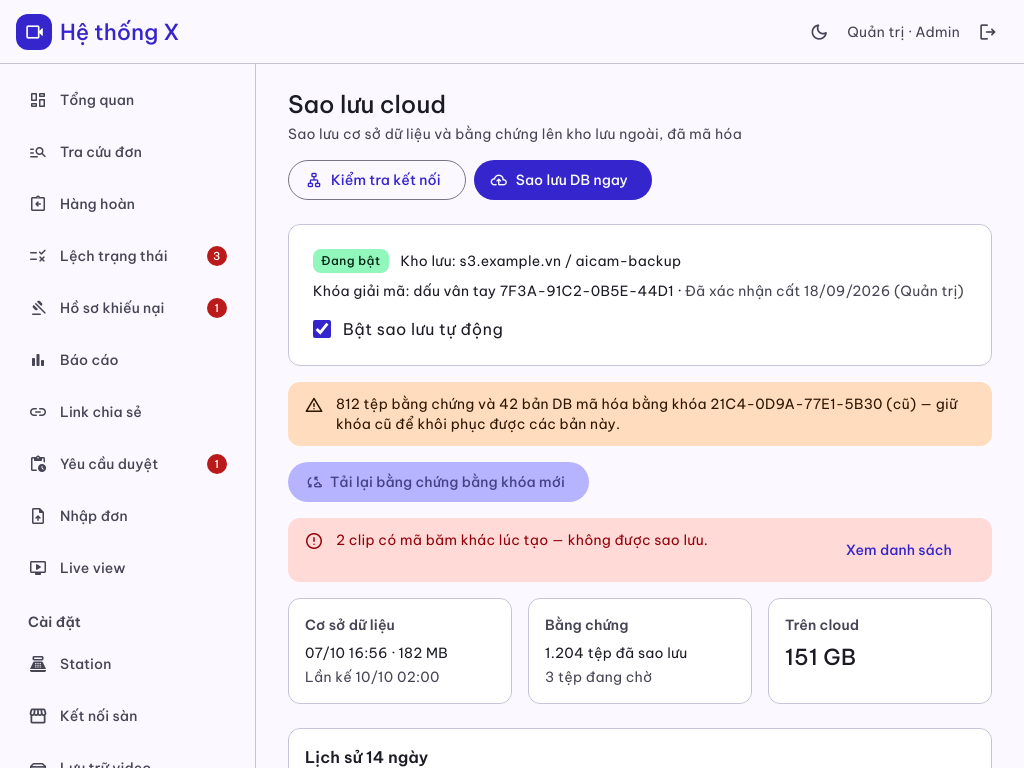
Test: EX-K7: khóa cũ → Alert + Dialog (790 tệp, 136 GB) → Tải lại → Toast; Alert còn, hết nút; lịch sử '(khóa cũ)'
Check: the button "Kiểm tra kết nối" is shown, box [288,160,466,200]
Click the button "Tải lại bằng chứng bằng khóa mới": point(438, 482) [288,462,589,502]
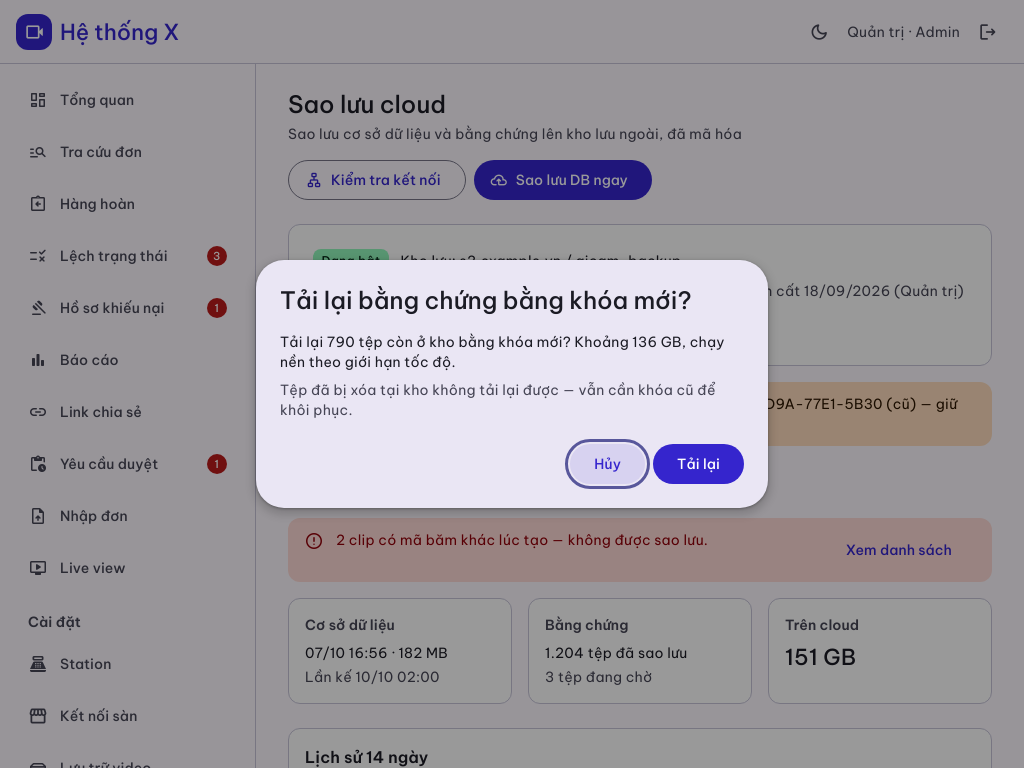
Check: the dialog "Tải lại bằng chứng bằng khóa mới?" shows "Tải lại 790 tệp còn ở kho bằng khóa mới? Khoảng 136 GB, chạy nền theo giới hạn tốc độ.", box [280,333,725,371]
Check: the dialog "Tải lại bằng chứng bằng khóa mới?" shows "Tệp đã bị xóa tại kho không tải lại được — vẫn cần khóa cũ để khôi phục.", box [280,381,716,419]
Click the button "Tải lại": point(698, 464) [653,444,744,484]
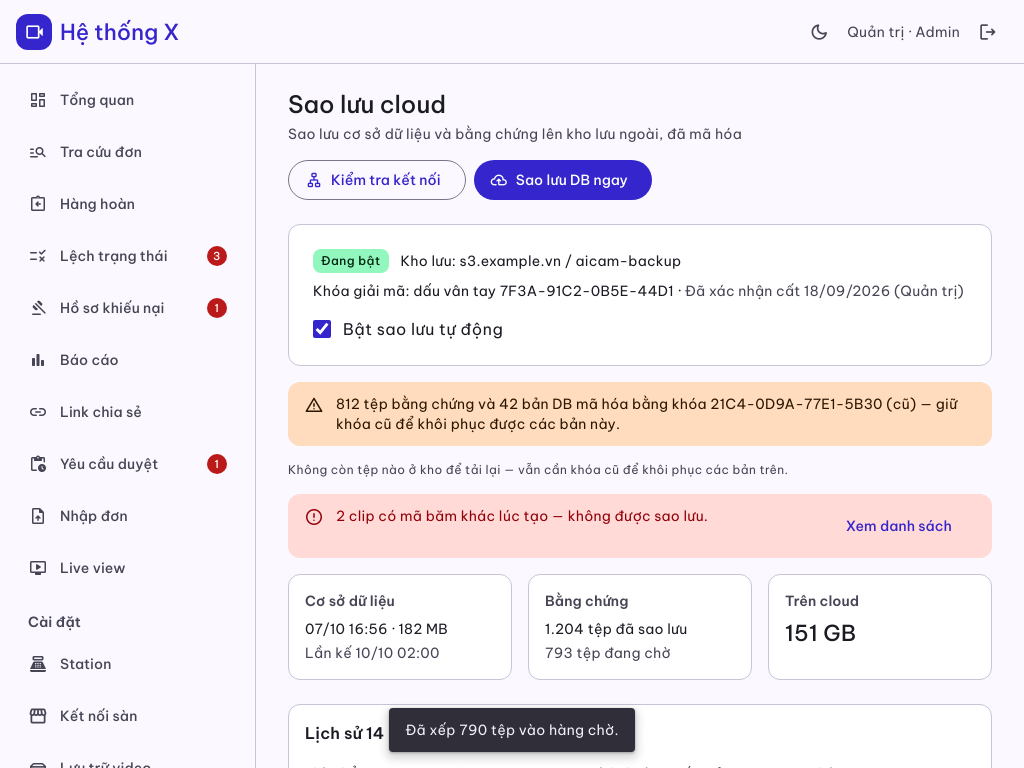
Check: the text "Đã xếp 790 tệp vào hàng chờ." is shown, box [389,708,635,752]
Check: the button "Tải lại bằng chứng bằng khóa mới" is gone
Check: the text "Không còn tệp nào ở kho để tải lại — vẫn cần khóa cũ để khôi phục các bản trên." is shown, box [288,462,788,477]
